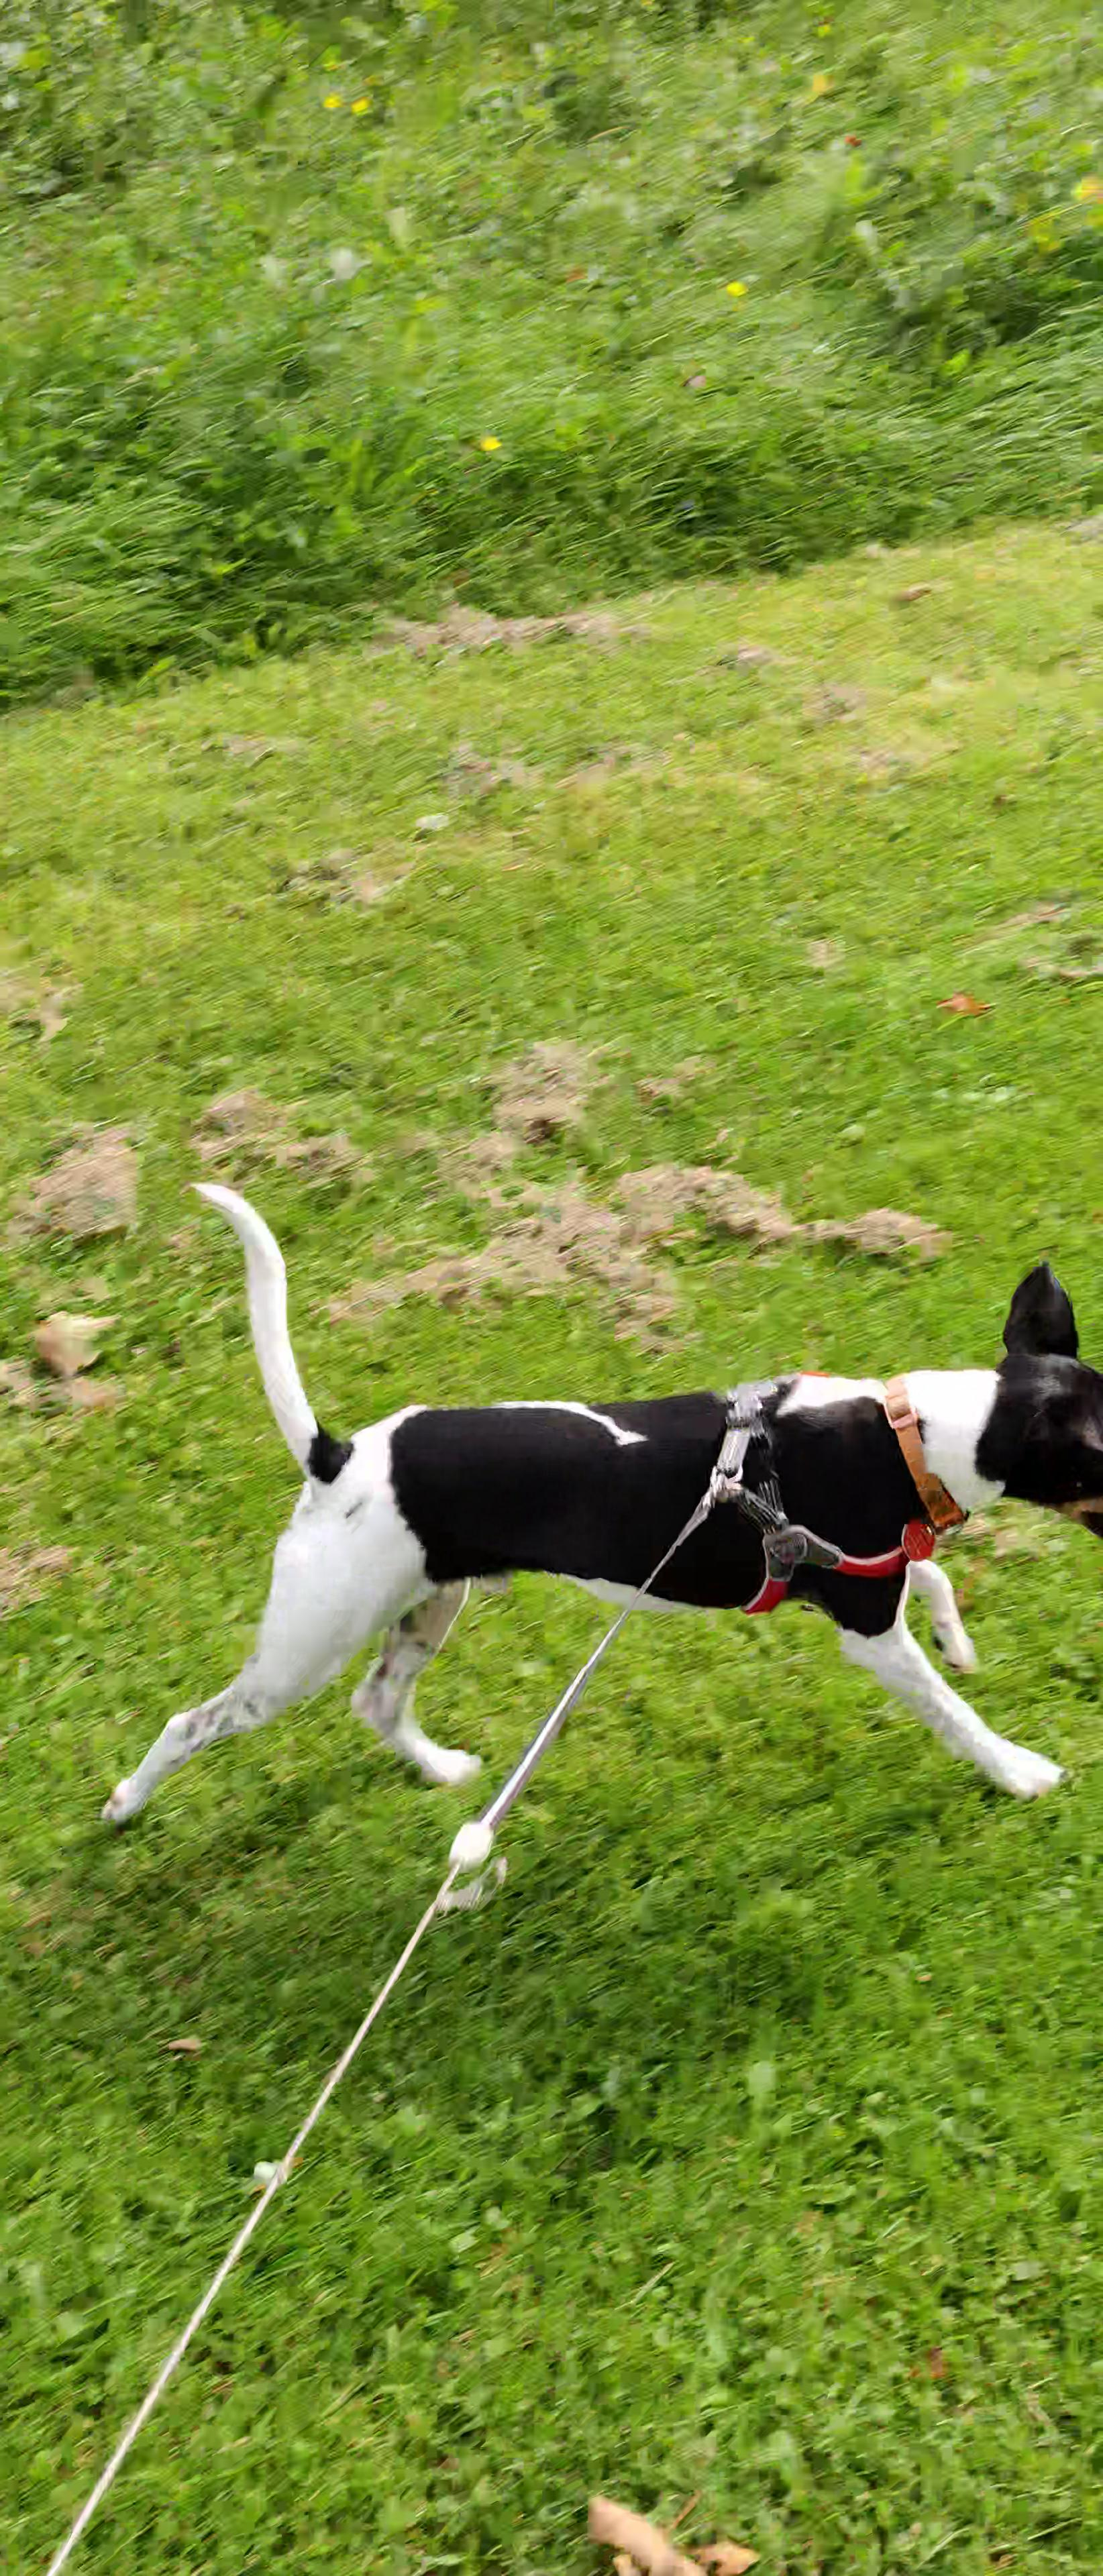Dog: (76, 1176, 1103, 1838)
